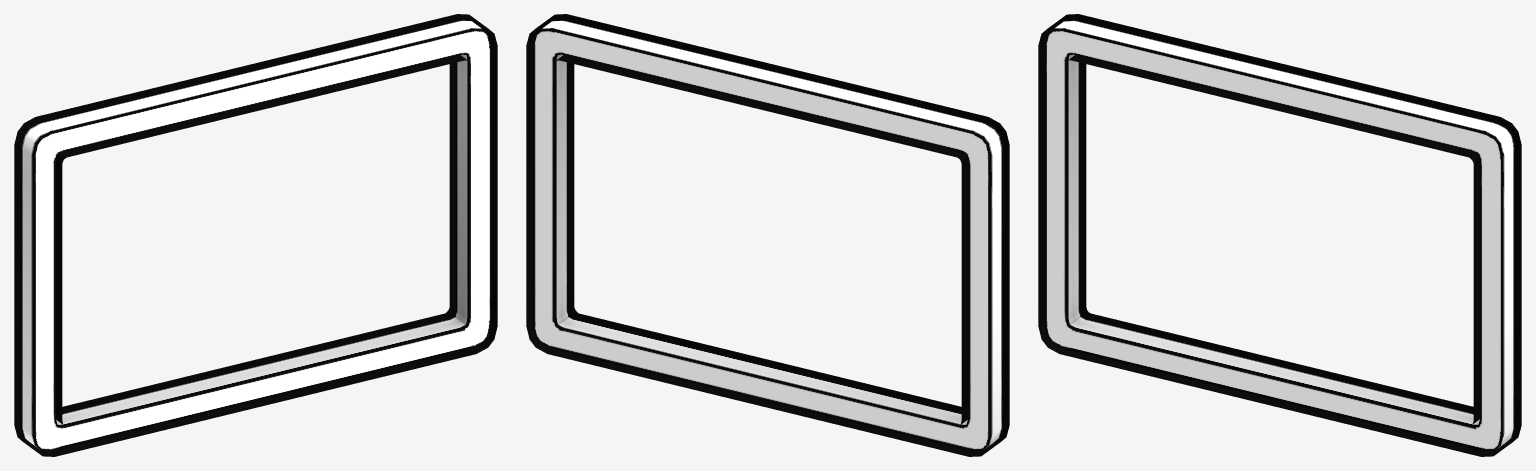
Rendered from workstation_display.glb.
3 views of the same model, side by side, from view 1: azimuth 30°, elevation 25°; view 2: azimuth 150°, elevation 25°; view 3: azimuth 330°, elevation 25° (orthographic).
Parts seen in each view (by area): view 1: obj_queue; view 2: obj_queue; view 3: obj_queue.
Part boxes in pixels (x1=…): obj_queue: x1=14, y1=14, x2=497, y2=456; obj_queue: x1=526, y1=14, x2=1009, y2=456; obj_queue: x1=1038, y1=14, x2=1521, y2=456.
Size of what is drawn, in the model's own units: 0.9526 by 0.6394 by 0.0755.
Materials: 1 (1 with a texture image).
